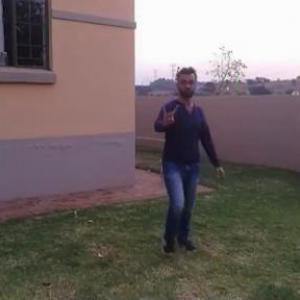takeoff-hand: (155, 97, 181, 132)
